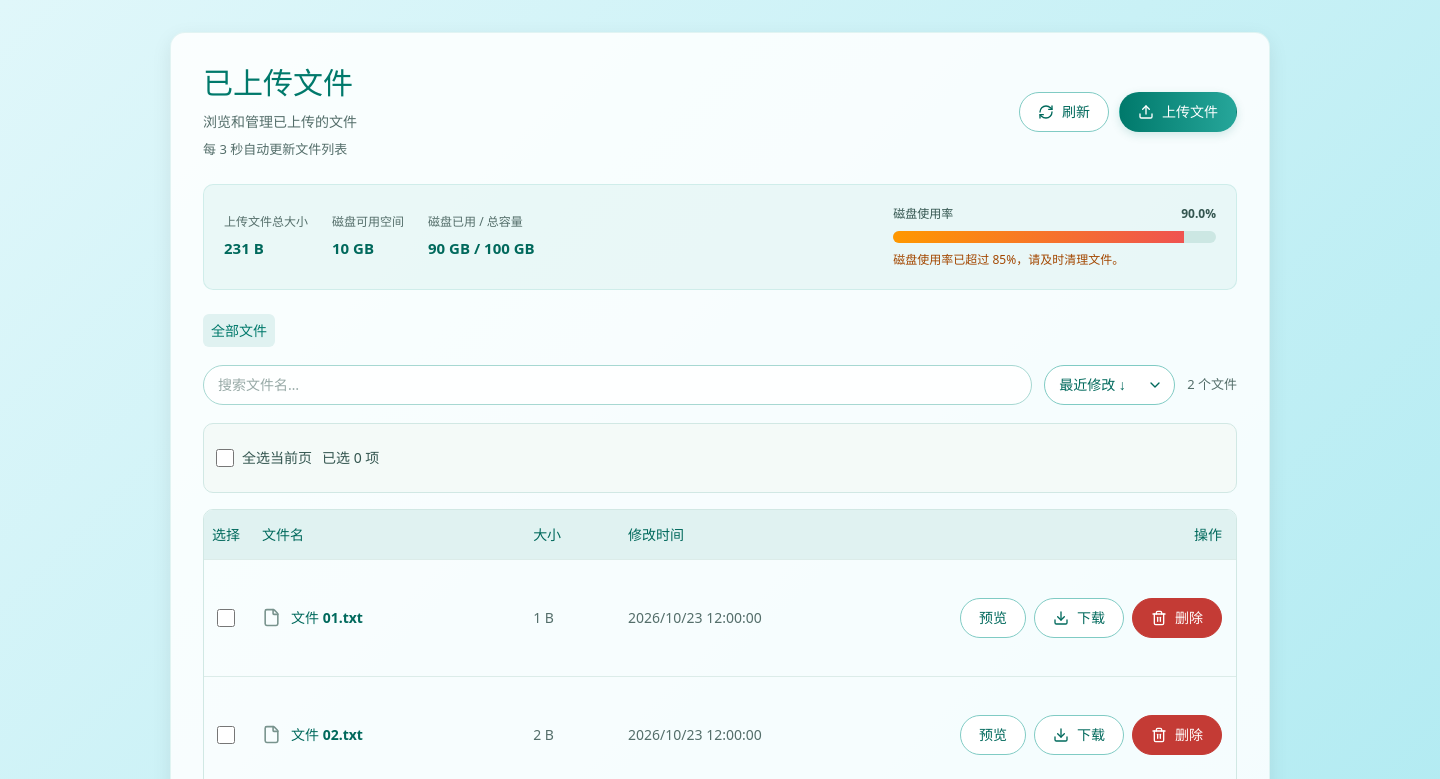
does not mark the current page selected when a retained failed item has disappeared
Expected: the text "文件 01.txt" is shown, 291,607 -> 363,628
Click the checkbox named "选择 文件 01.txt".
click(226, 618)  # box 217,608 -> 235,626
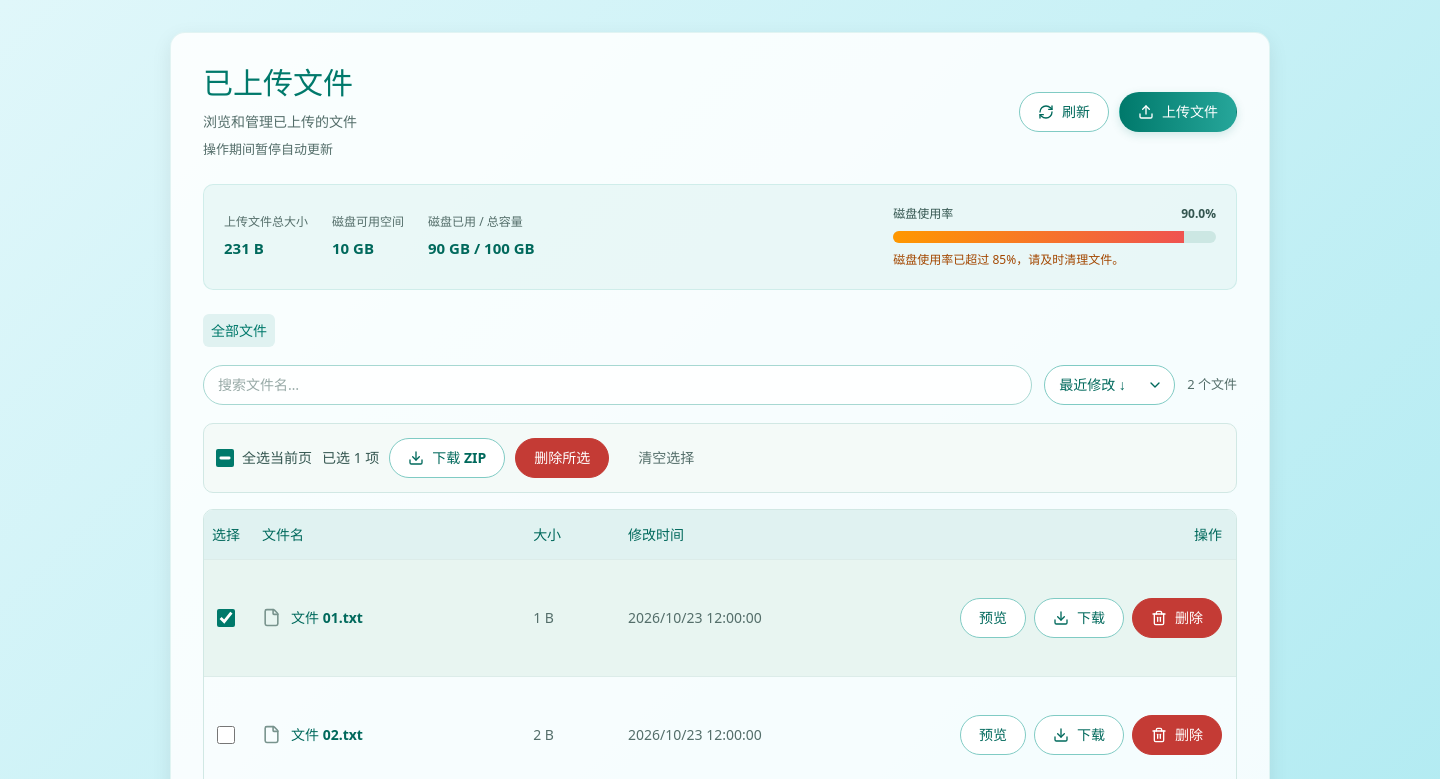
Click the button "删除所选".
click(562, 458)  # box 515,438 -> 609,478
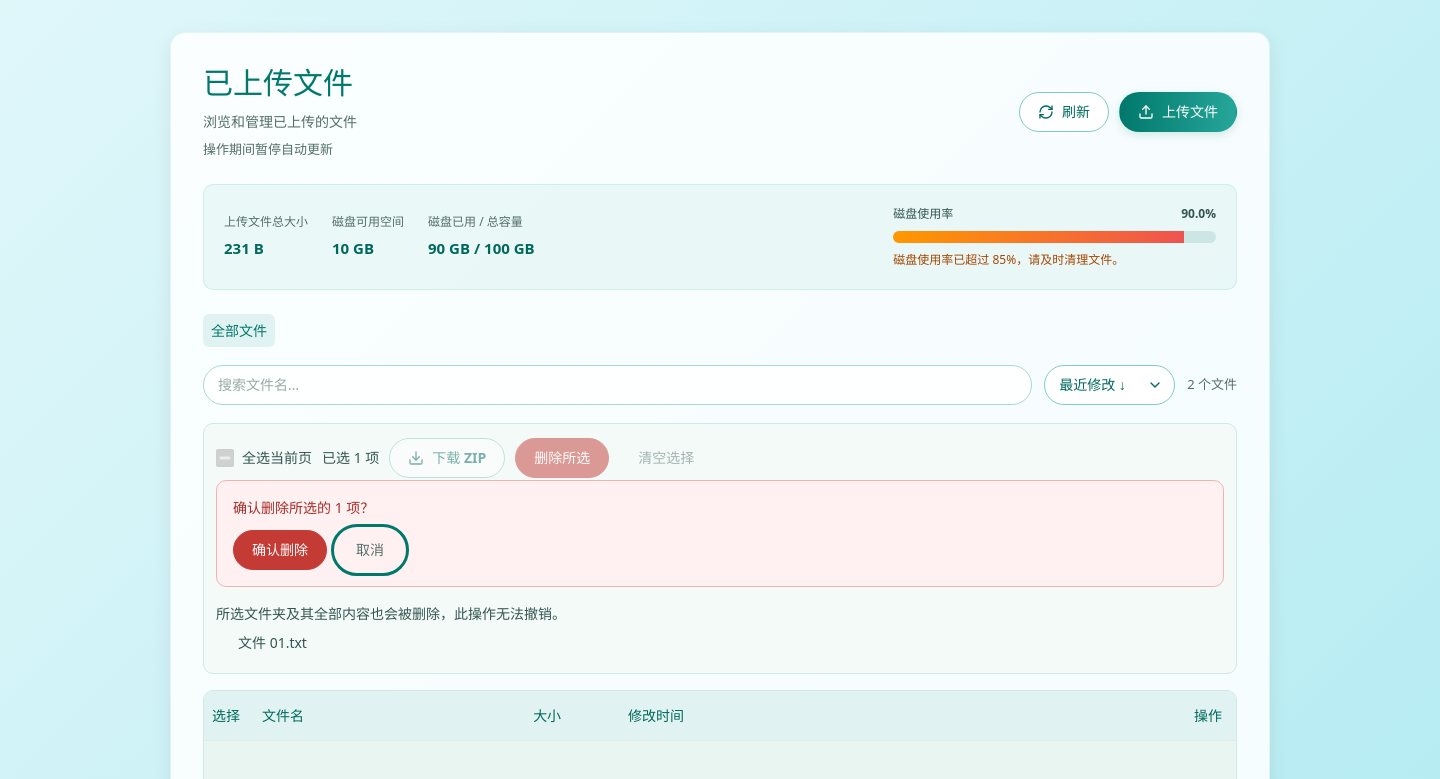
Click the button "确认删除".
click(280, 550)  # box 233,530 -> 327,570
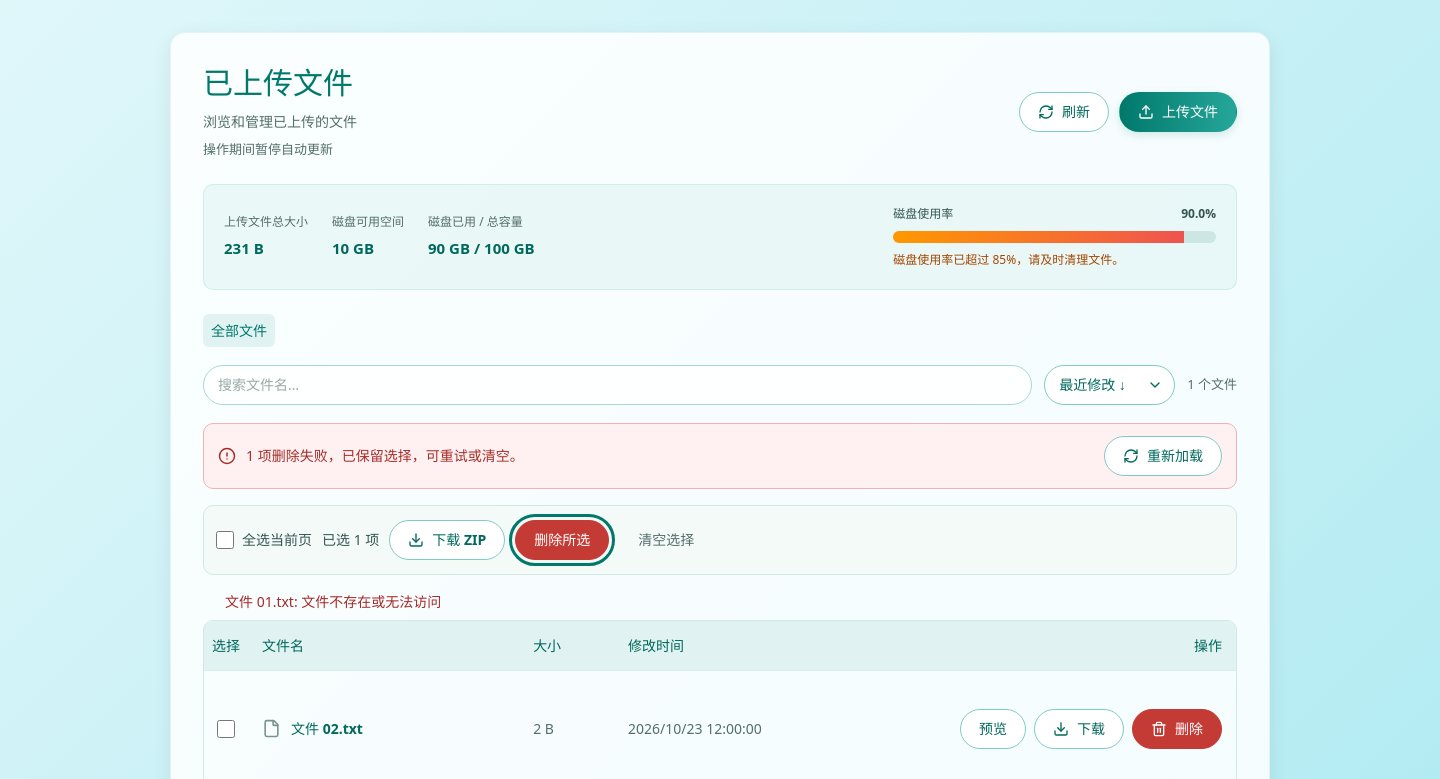
Expected: the text "已选 1 项" is shown, 322,529 -> 379,550
Click the checkbox labelled "全选当前页".
click(225, 540)  # box 216,530 -> 234,548
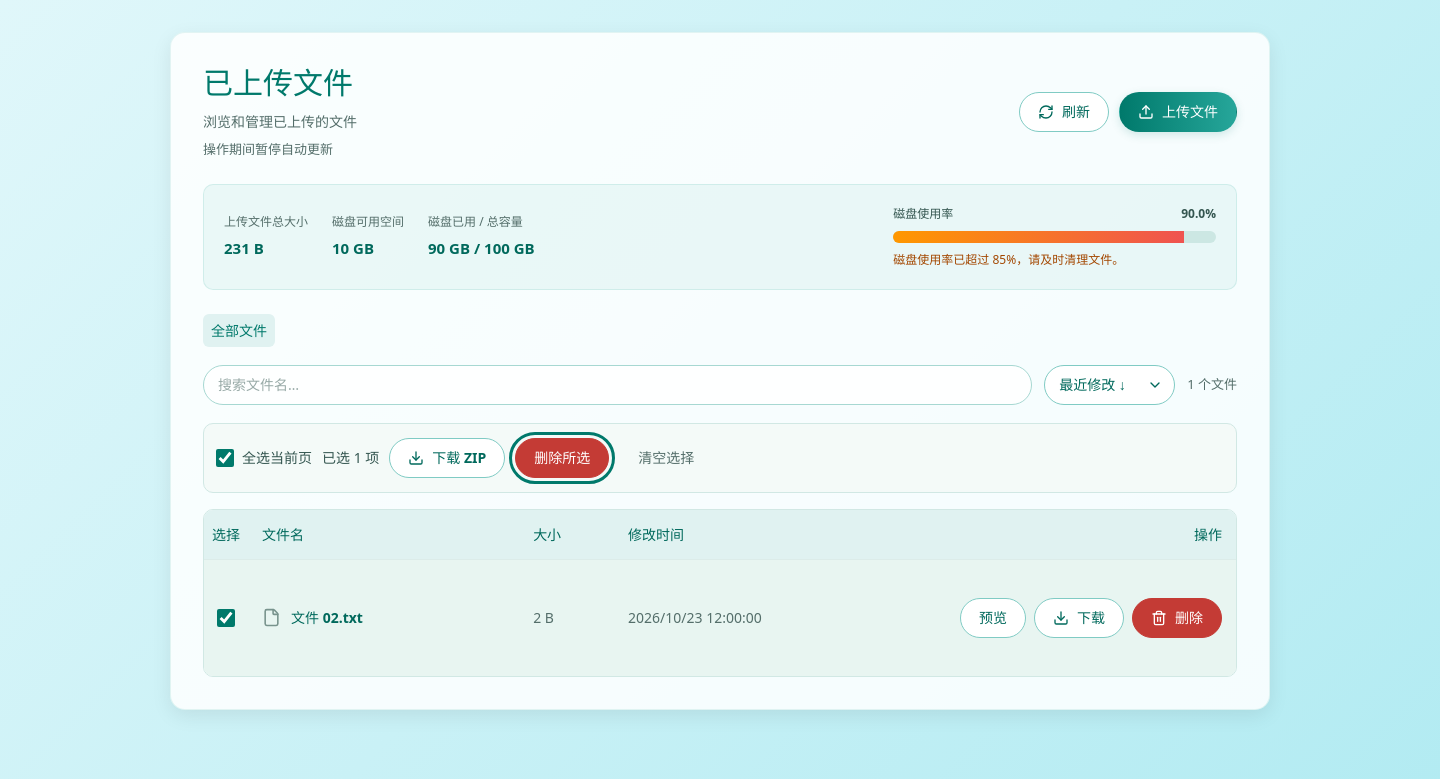
Expected: the checkbox named "选择 文件 02.txt" is checked, 217,608 -> 235,626
